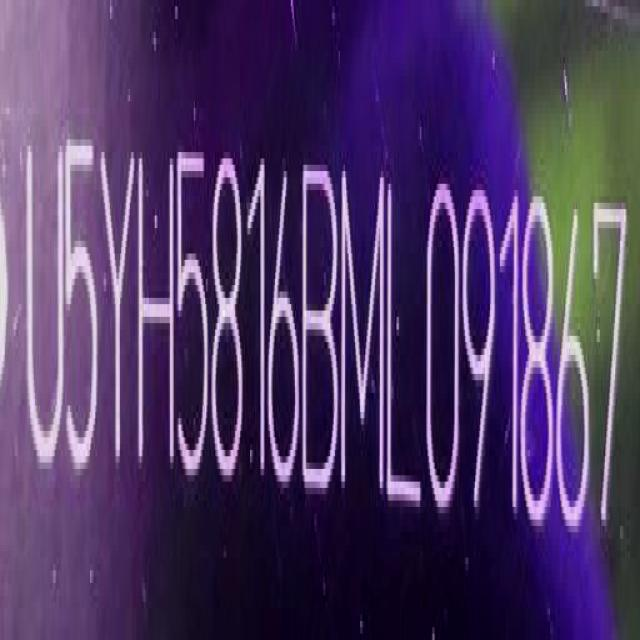0: (426, 173, 461, 522)
1: (248, 151, 267, 494), (502, 186, 520, 531)
5: (62, 133, 99, 487), (179, 145, 211, 489)
6: (558, 196, 592, 543), (270, 148, 300, 496)
7: (600, 192, 632, 545)
8: (522, 193, 558, 536), (211, 150, 242, 492)
9: (464, 185, 496, 528)
B: (302, 150, 342, 502)
H: (136, 122, 178, 493)
L: (385, 153, 421, 528)
M: (339, 157, 385, 509)
U: (25, 131, 65, 500)
Y: (99, 136, 134, 476)
